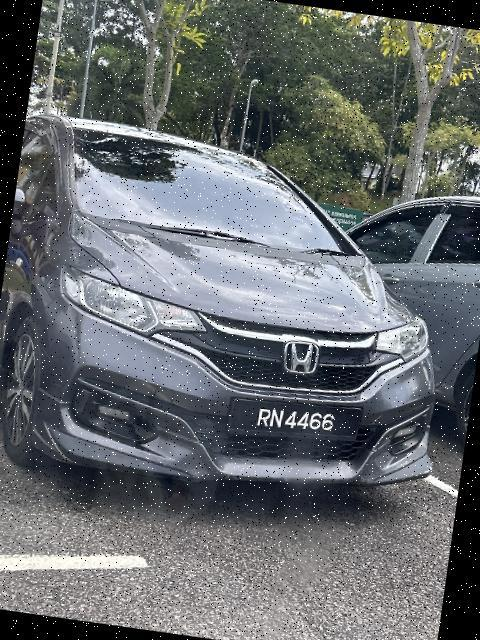License_Plate: (221, 389, 371, 452)
RN4466: (221, 389, 371, 452)
car: (1, 112, 474, 521)
